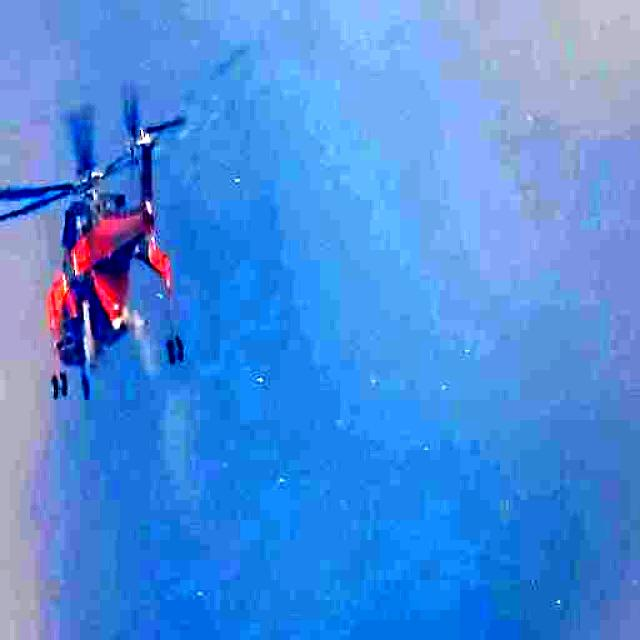drone: (0, 62, 261, 462)
